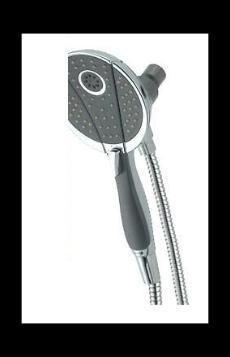Ducha: (70, 49, 187, 307)
